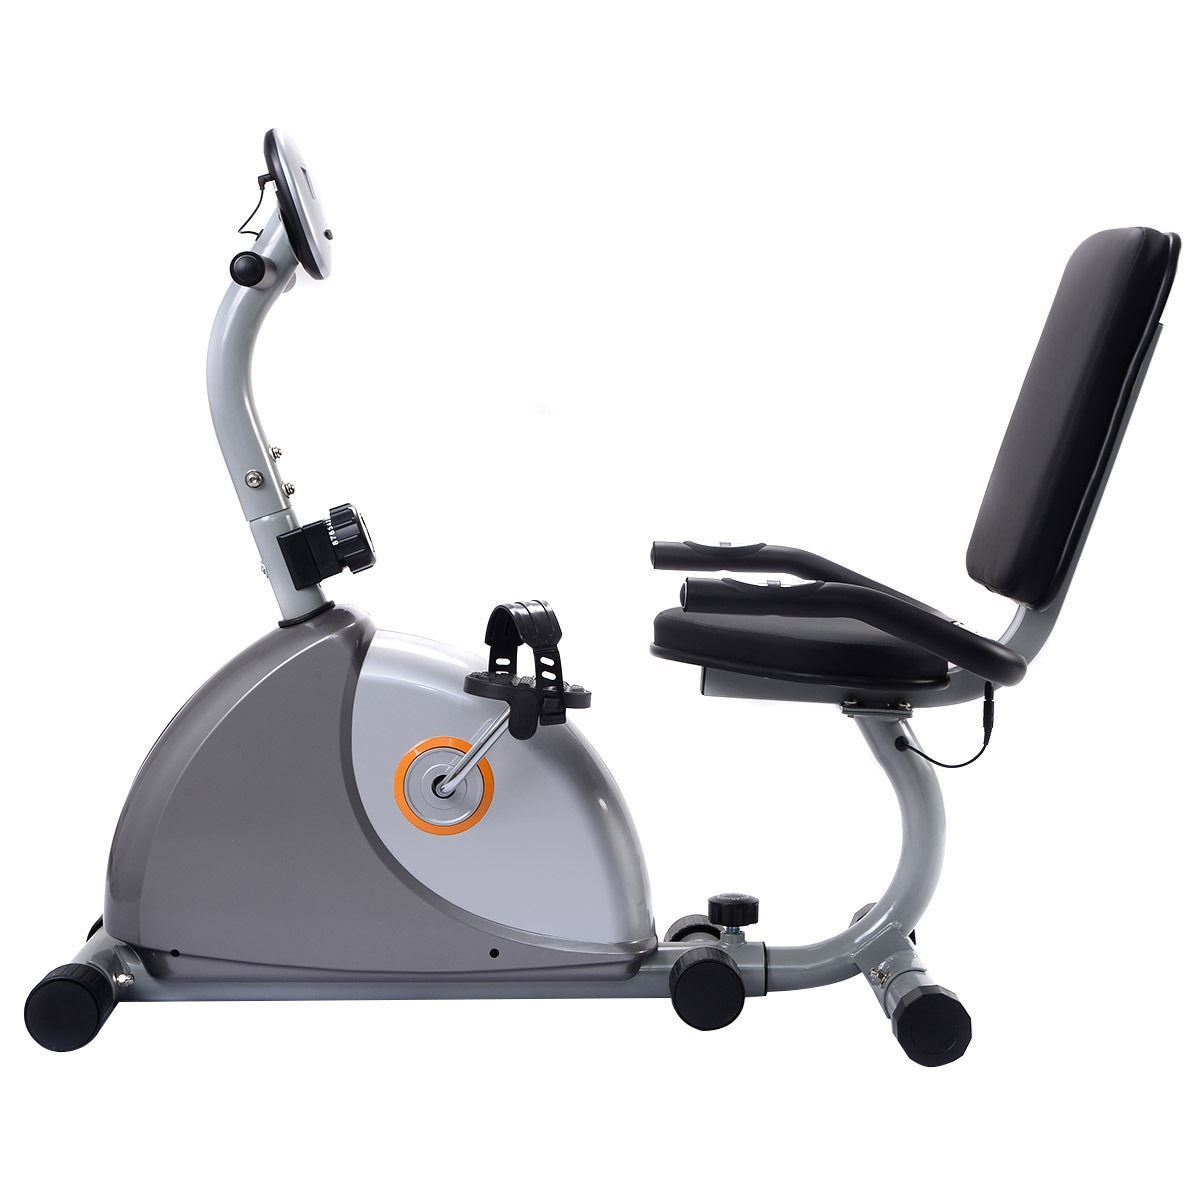gym_bike: (32, 112, 1177, 1087)
